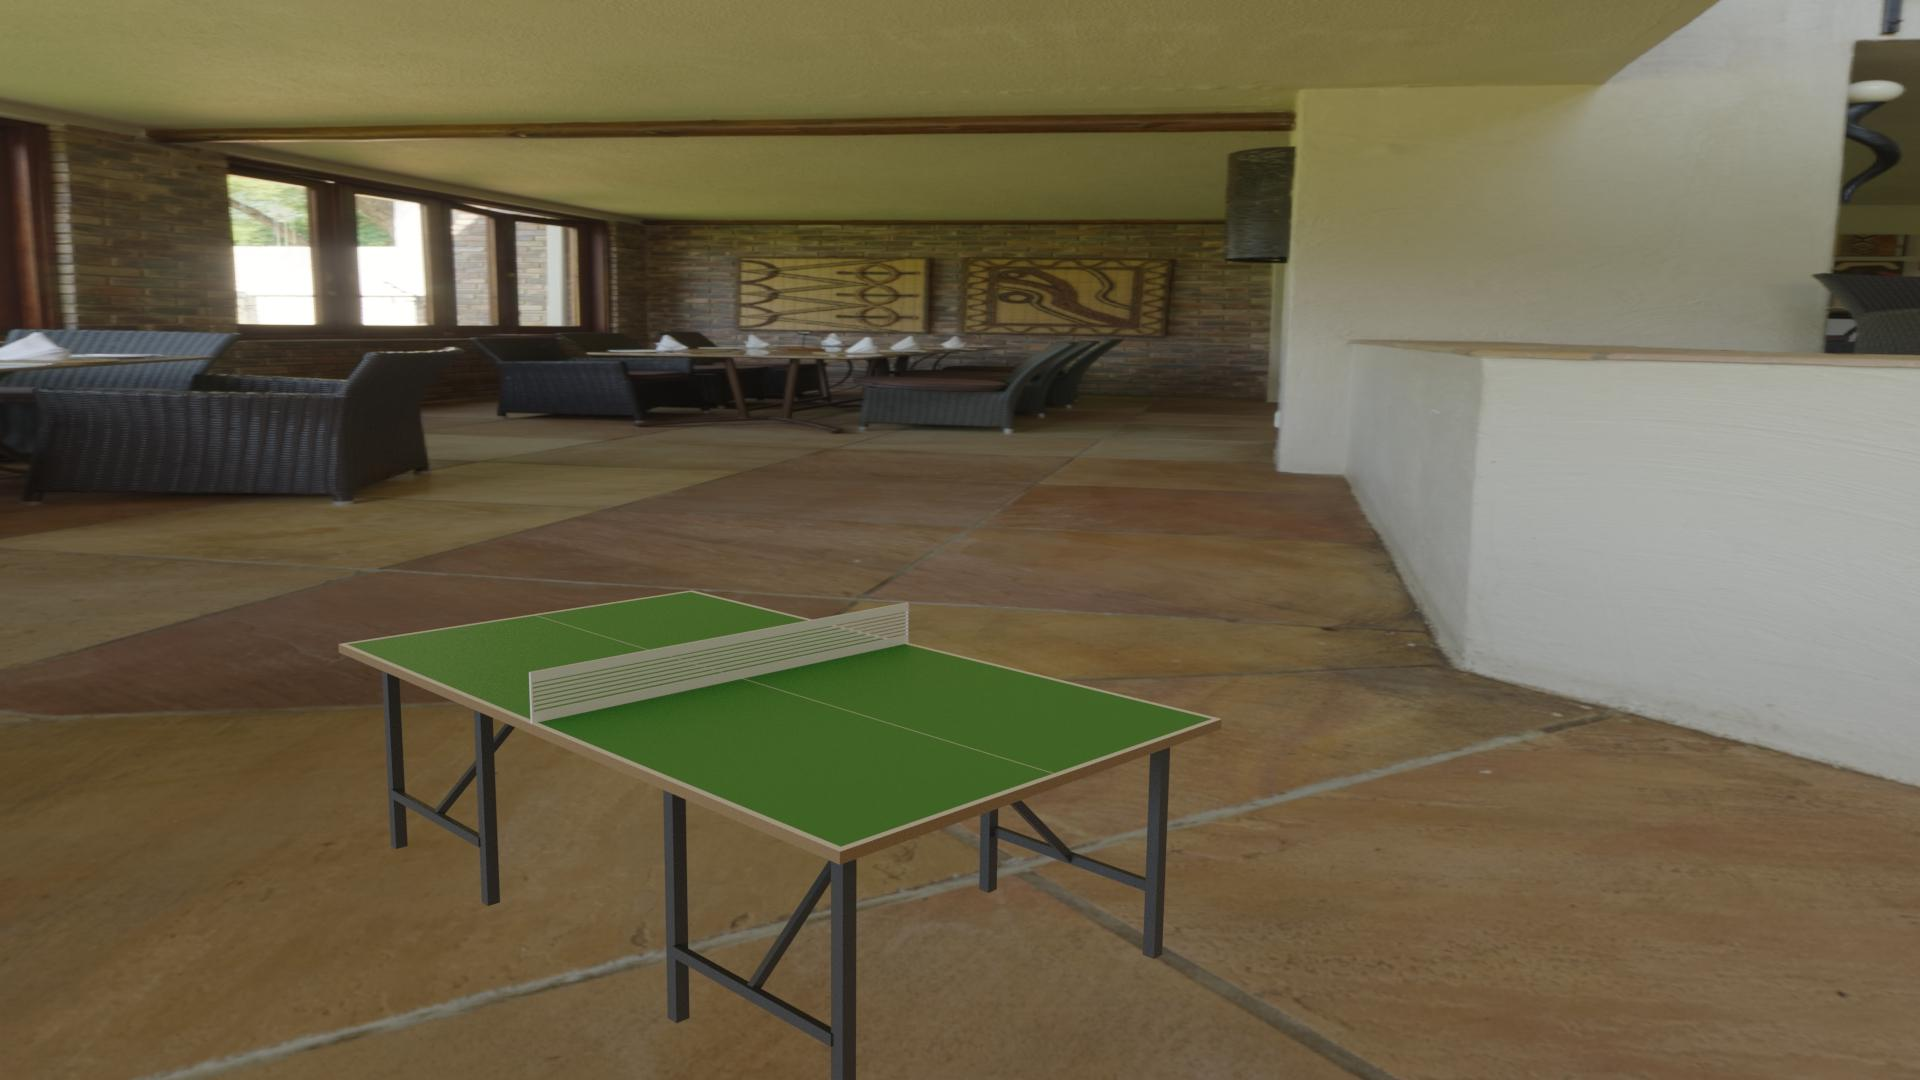table: (347, 592, 1212, 847)
